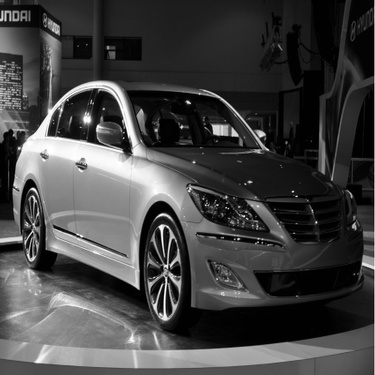car: (6, 63, 370, 334)
